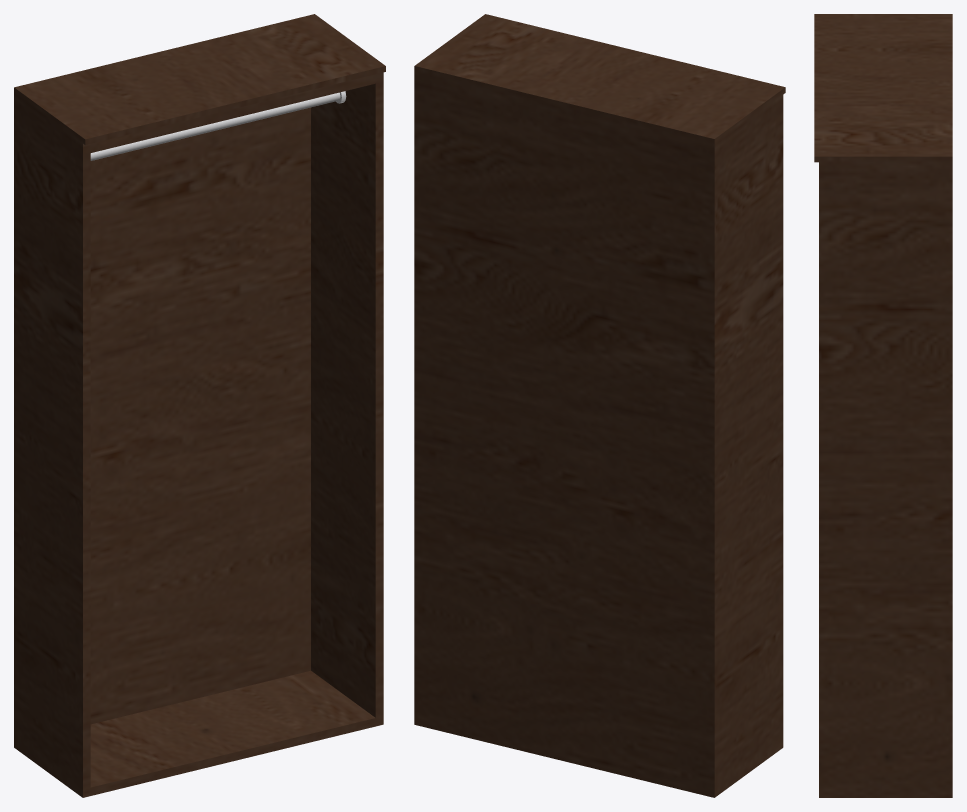
File: Closet42.fbx
3 renders of one model, left to right at view 1: azimuth 30°, elevation 25°; view 2: azimuth 150°, elevation 25°; view 3: azimuth 270°, elevation 25°, orthographic. The views are drawn at different scales.
Visible parts, largest first — view 1: Closet42; view 2: Closet42; view 3: Closet42.
Part boxes in pixels (x1,y1,x2,y2): Closet42: (14, 14, 385, 797); Closet42: (414, 14, 785, 797); Closet42: (814, 14, 952, 797).
Size of the model in its own units: 112 by 235 by 45.95.
